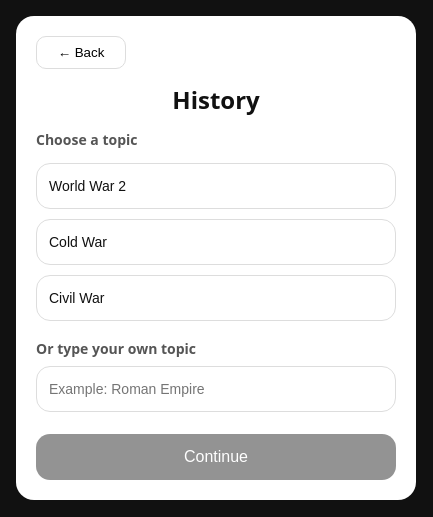
TopicSelection › allows the user to type a custom topic
The image size is (433, 517).
In the field with placeholder "Example: Roman Empire": (216, 389) [36,366,396,412], type "Roman Empire"
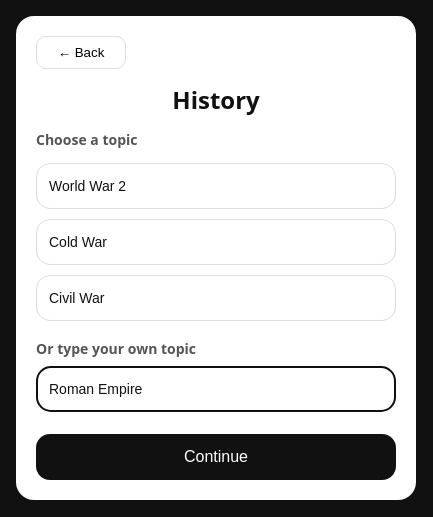
Now the button "Continue" is enabled, box [36,434,396,480]
